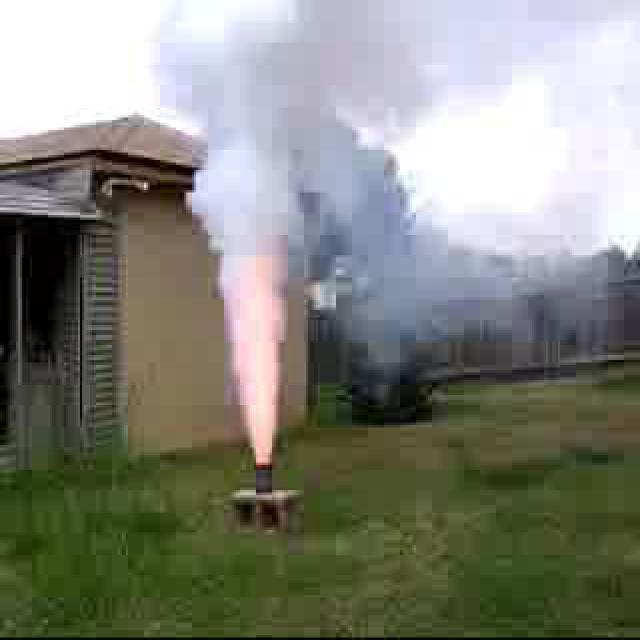Smoke: (182, 41, 313, 443)
